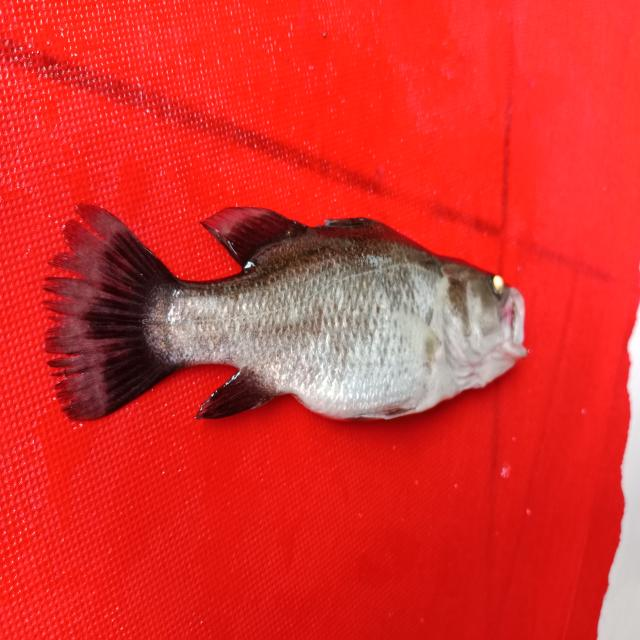ikan: (30, 168, 545, 444)
